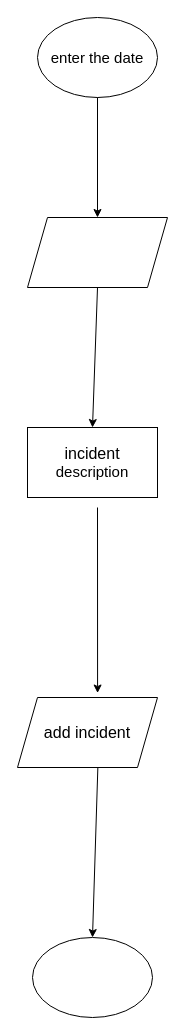
Image size: 185x1035. Some labels were removed from this diagram. Each missing label, with the box of its shape:
download report (CSV): (32, 936, 152, 1018)
location: (26, 216, 168, 288)
